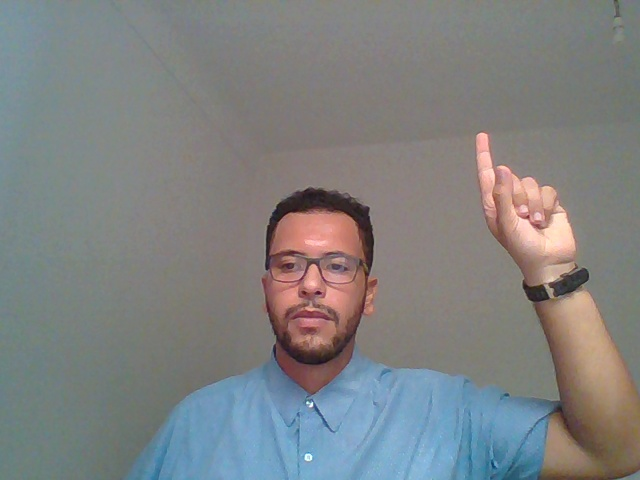handup: (438, 109, 628, 425)
